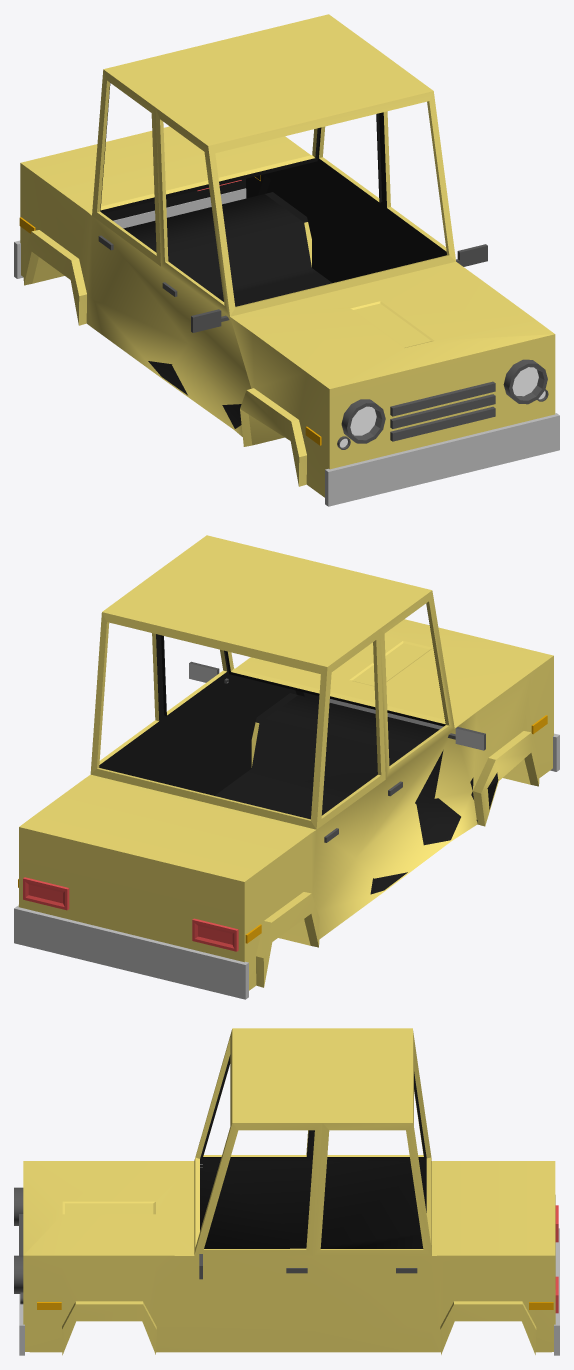
The model's file is CrashedHood00.fbx.
3 renders of one model, top to bottom at view 1: azimuth 30°, elevation 25°; view 2: azimuth 150°, elevation 25°; view 3: azimuth 270°, elevation 25°, orthographic. The views are drawn at different scales.
Visible parts, largest first — view 1: Hood; view 2: Hood; view 3: Hood.
Part boxes in pixels (bbox=[...]): Hood: bbox=[14, 14, 559, 506]; Hood: bbox=[14, 535, 559, 999]; Hood: bbox=[14, 1028, 559, 1355].
Bounding box in the file's own units: 56.48 × 49.27 × 105.
